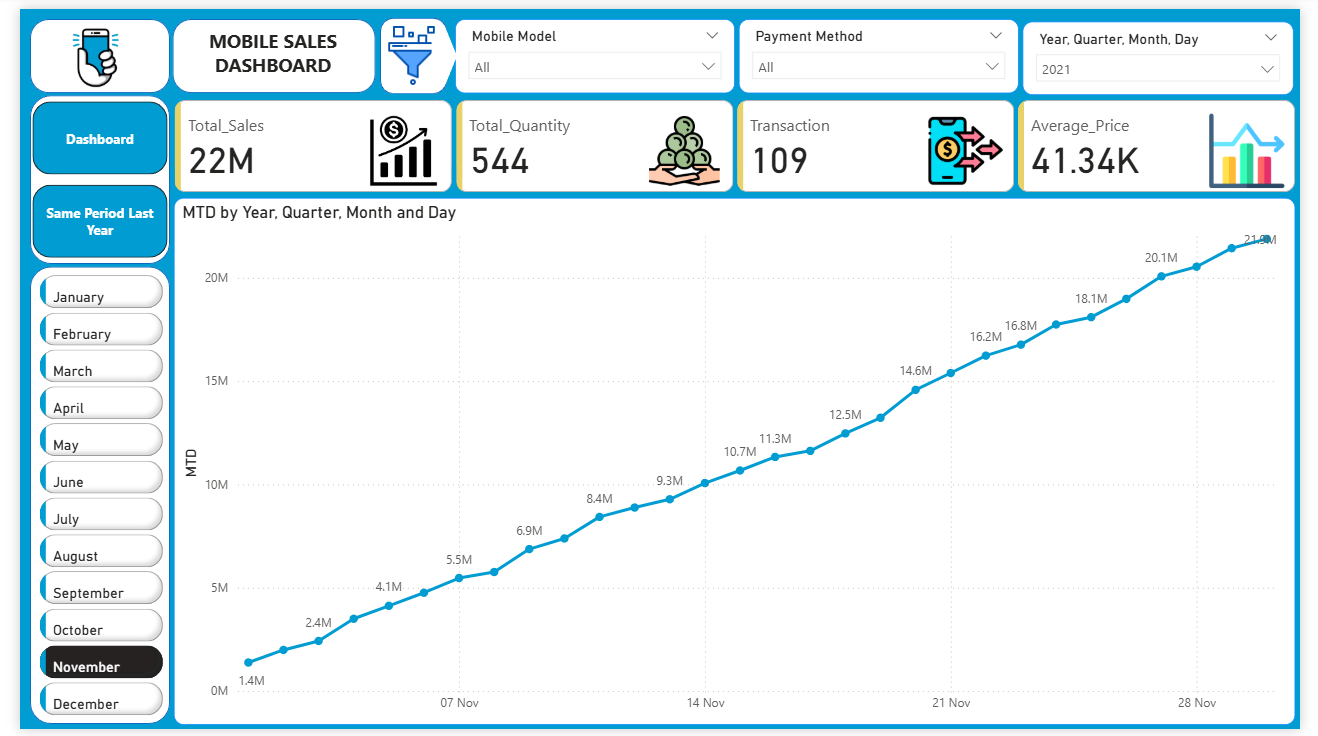

This screenshot's page, from the dashboard's own definition file:
{"tool":"powerbi","page":{"name":"MTD Report","canvas":[1280,720],"ordinal":1},"visuals":[{"type":"shape","box":[9.6,9.6,140,74.1],"z":0},{"type":"shape","box":[9.6,86.4,140,168.8],"z":1000},{"type":"shape","box":[10,257.5,140,457.5],"z":2000},{"type":"image","box":[32.9,1.4,86.4,94.7],"z":3000},{"type":"shape","box":[152.3,9.6,203.1,74.1],"z":4000},{"type":"textbox","box":[150,13.6,205.9,64.1],"z":5000},{"type":"advancedSlicerVisual","fields":{"Values":["Calender_Date.Date.Variation.Date Hierarchy.Month"]},"box":[15,261.2,133.8,458.8],"z":6000},{"type":"cardVisual","fields":{"Data":["Sales_Data.Total_Sales","Sales_Data.Total_Quantity","Sales_Data.Transaction","Sales_Data.Average_Price"]},"box":[149.6,86.4,1130.7,102.9],"z":7000},{"type":"slicer","fields":{"Values":["Sales_Data.Mobile Model"]},"box":[435,9.6,279.9,74.1],"z":8000},{"type":"slicer","fields":{"Values":["Sales_Data.Payment Method"]},"box":[719,9.6,279.9,74.1],"z":9000},{"type":"slicer","fields":{"Values":["Calender_Date.Date.Variation.Date Hierarchy.Year","Calender_Date.Date.Variation.Date Hierarchy.Quarter","Calender_Date.Date.Variation.Date Hierarchy.Month","Calender_Date.Date.Variation.Date Hierarchy.Day"]},"box":[1002.1,12.3,271.3,73.6],"z":10000},{"type":"shape","box":[360,8.2,66.8,76.4],"z":11000},{"type":"image","box":[334,10.9,118.6,70.9],"z":12000},{"type":"shape","box":[411.8,15,25.9,64.1],"z":13000},{"type":"lineChart","fields":{"Y":["Sales_Data.MTD"],"Category":["Calender_Date.Date.Variation.Date Hierarchy.Year","Calender_Date.Date.Variation.Date Hierarchy.Quarter","Calender_Date.Date.Variation.Date Hierarchy.Month","Calender_Date.Date.Variation.Date Hierarchy.Day"]},"box":[153.8,188.8,1121.2,527.5],"z":14000},{"type":"pageNavigator","box":[12.5,92.5,135,156.2],"z":14001}]}

Visuals, with their boxes in screenshot pixels (x1, y1, x2, y2), scaled from the page's 1280x720 canvas onto the 1318x736 screenshot:
shape: 10/10/154/86
shape: 10/88/154/261
shape: 10/263/154/731
image: 34/1/123/98
shape: 157/10/366/86
textbox: 154/14/366/79
advancedSlicerVisual - Calender_Date.Date.Variation.Date Hierarchy.Month: 15/267/153/735
cardVisual - Sales_Data.Total_Sales x Sales_Data.Total_Quantity: 154/88/1317/194
slicer - Sales_Data.Mobile Model: 448/10/736/86
slicer - Sales_Data.Payment Method: 740/10/1029/86
slicer - Calender_Date.Date.Variation.Date Hierarchy.Year x Calender_Date.Date.Variation.Date Hierarchy.Quarter: 1032/13/1311/88
shape: 371/8/439/86
image: 344/11/466/84
shape: 424/15/451/81
lineChart - Sales_Data.MTD x Calender_Date.Date.Variation.Date Hierarchy.Year: 158/193/1313/732
pageNavigator: 13/95/152/254
